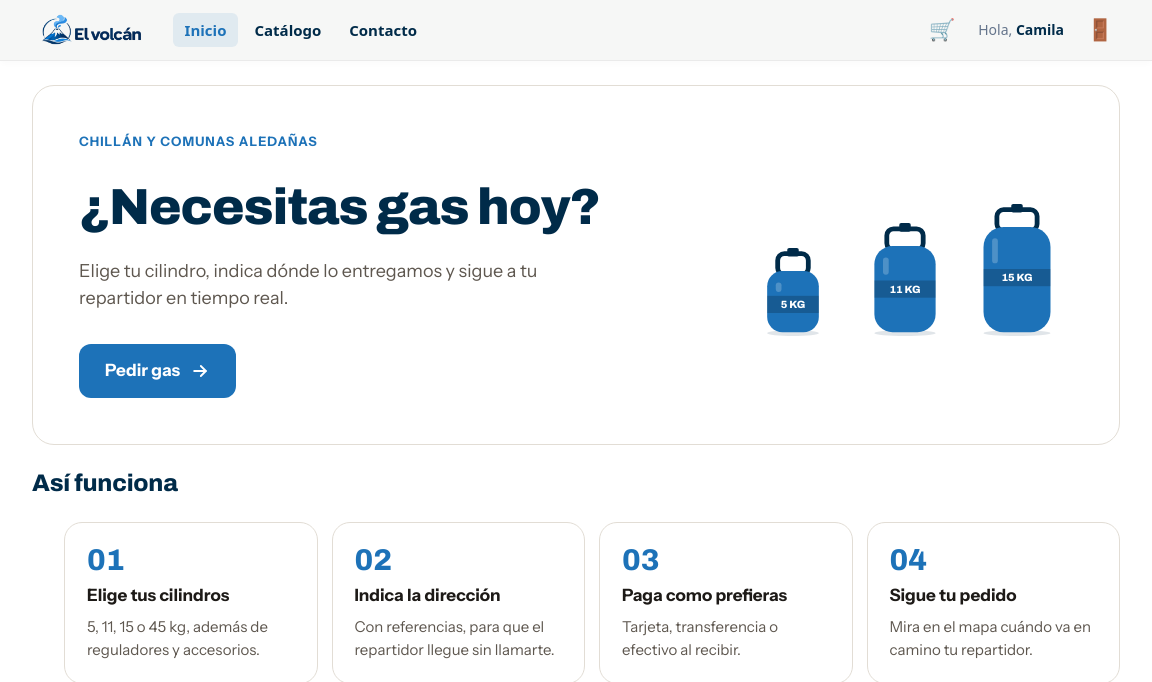
App - navegación › "Pedir gas" lleva al catálogo
The width and height of the screenshot is (1152, 682).
Click the link "Pedir gas".
click(158, 371)  # box x1=79 y1=344 x2=236 y2=398
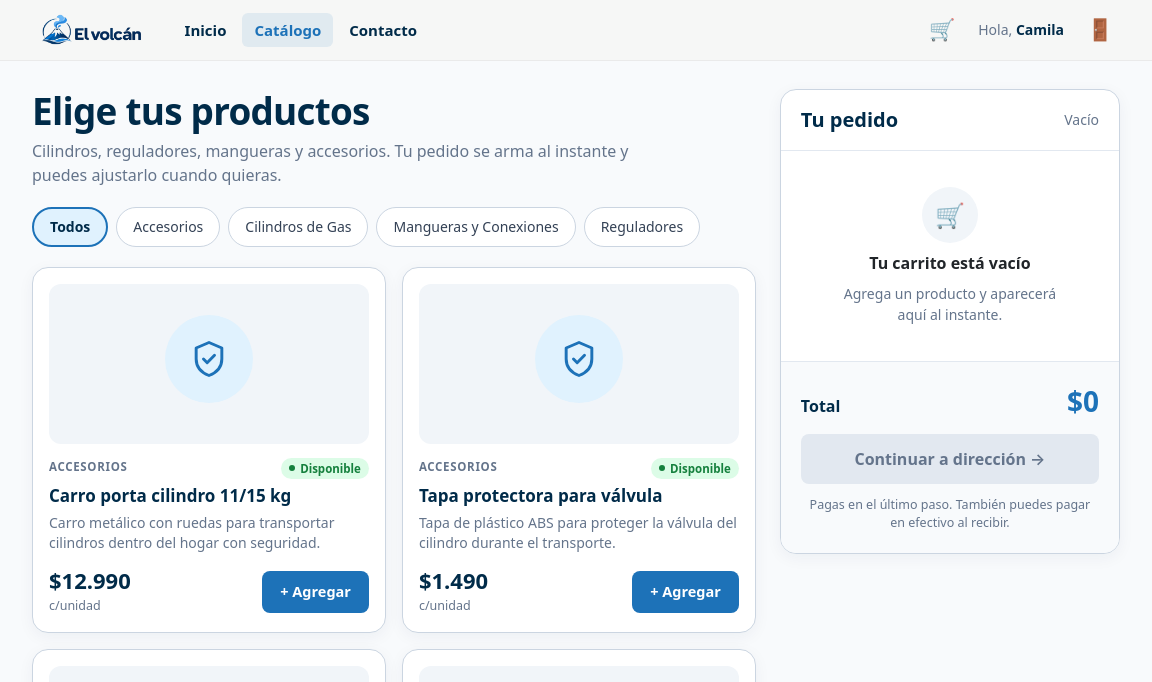
Expected: the heading "Elige tus productos" is shown, x1=32 y1=86 x2=370 y2=136
